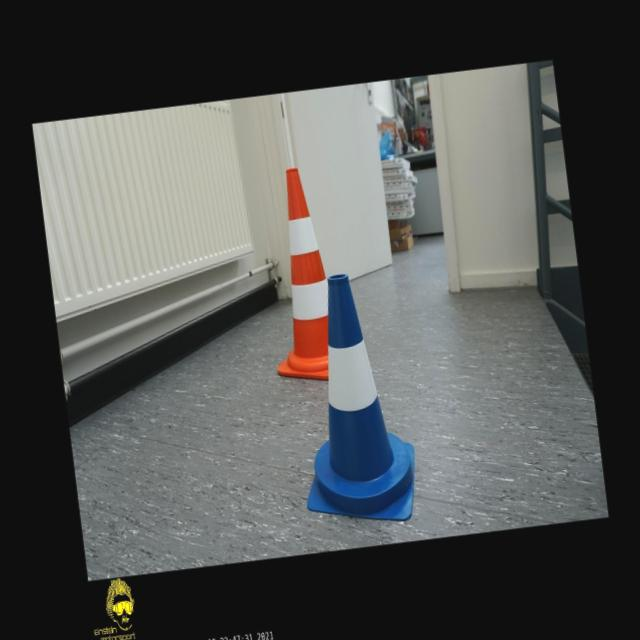blue_cone: (278, 266, 422, 532)
large_orange_cone: (253, 164, 339, 385)
